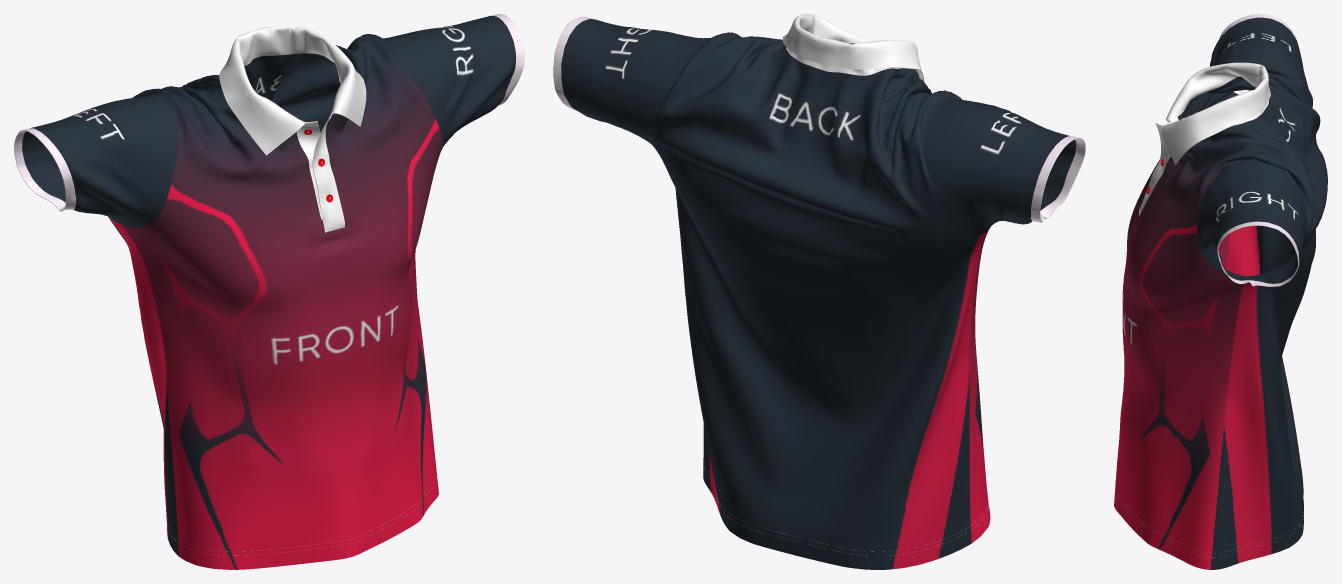
File: polo-shirt.glb
3 renders of one model, left to right at view 1: azimuth 30°, elevation 25°; view 2: azimuth 150°, elevation 25°; view 3: azimuth 270°, elevation 25°, orthographic. The views are drawn at different scales.
Visible parts, largest first — view 1: Polo; view 2: Polo; view 3: Polo.
Part boxes in pixels (bbox=[...]): Polo: bbox=[14, 14, 524, 569]; Polo: bbox=[553, 14, 1085, 569]; Polo: bbox=[1114, 14, 1327, 569].
Size of the model in its own units: 4.05 by 3.91 by 1.73.
Materials: 3 (1 with a texture image).
